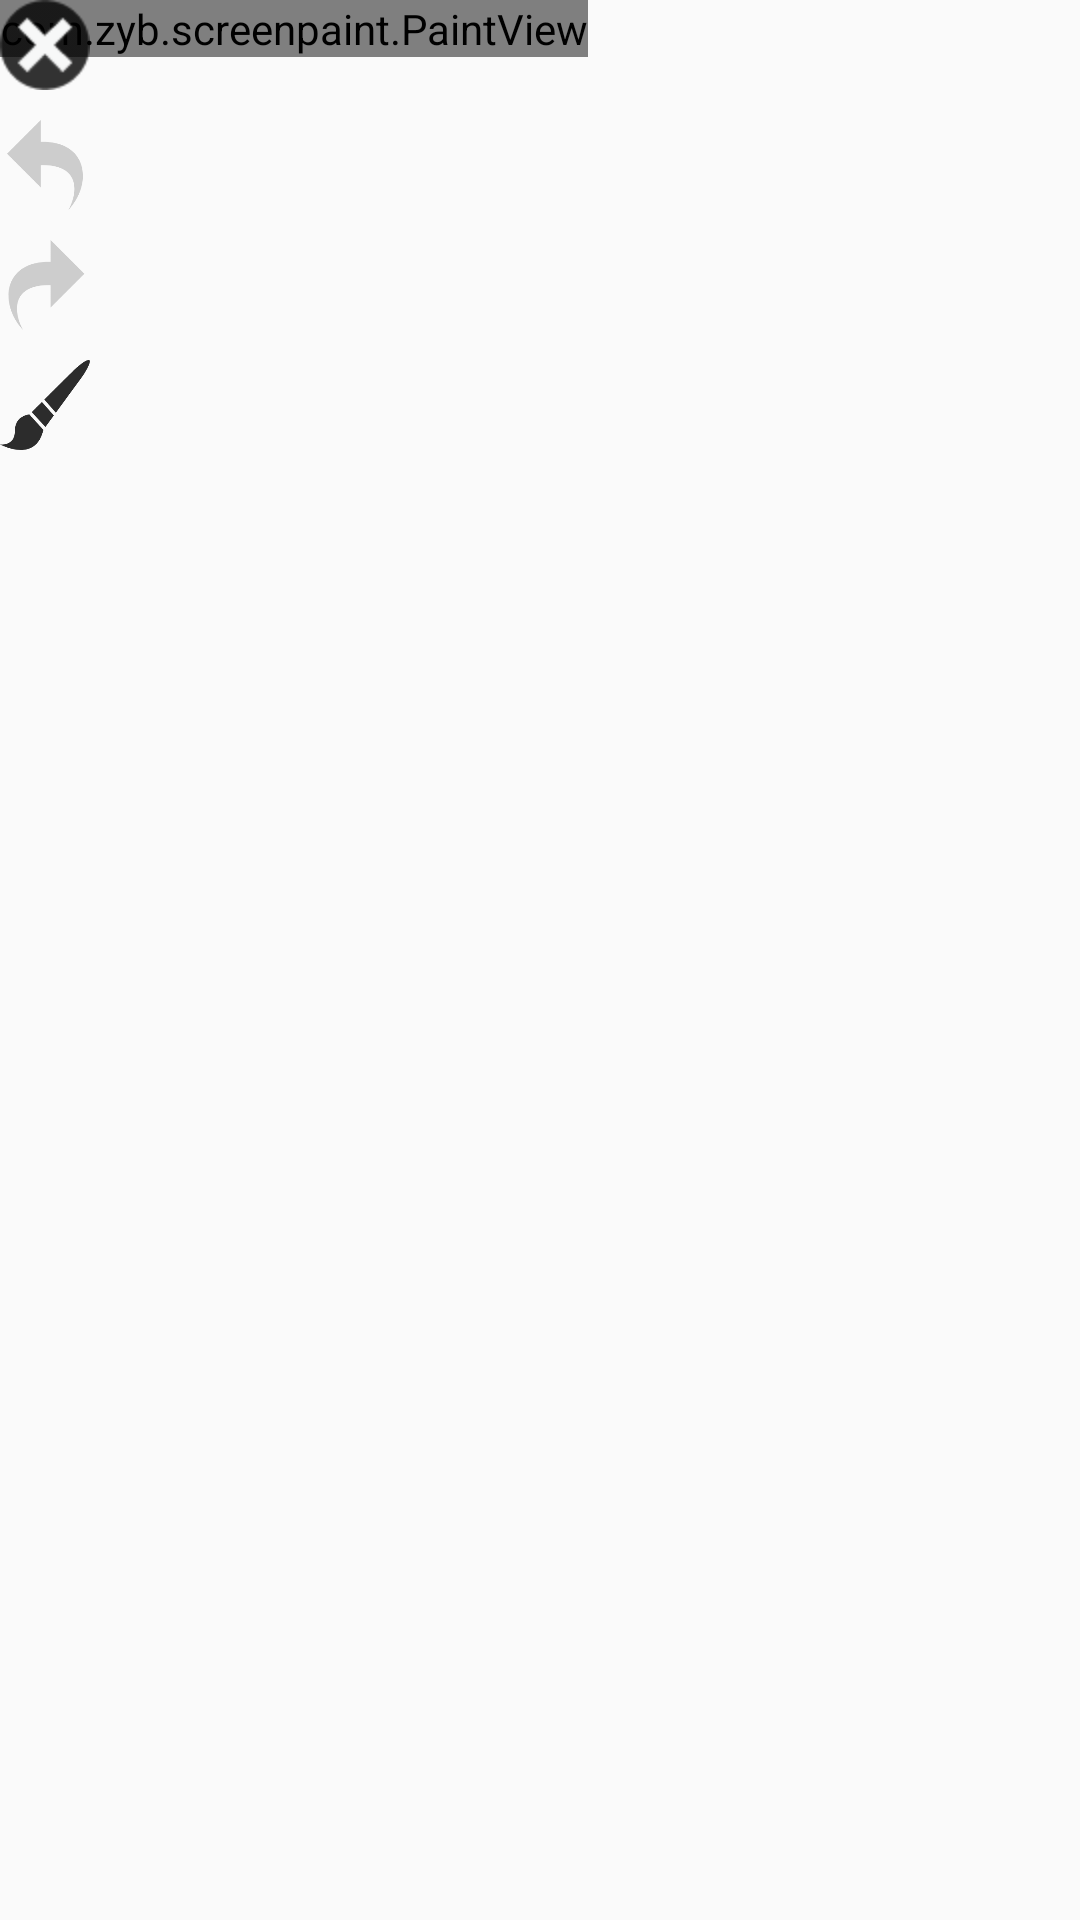

Icons on this 1080x1920 Android screen, each with its box as (x1, y1, x2, y2):
close: (0, 0, 90, 90)
paint: (0, 360, 90, 450)
redo no: (9, 241, 84, 328)
undo no: (7, 120, 83, 209)
